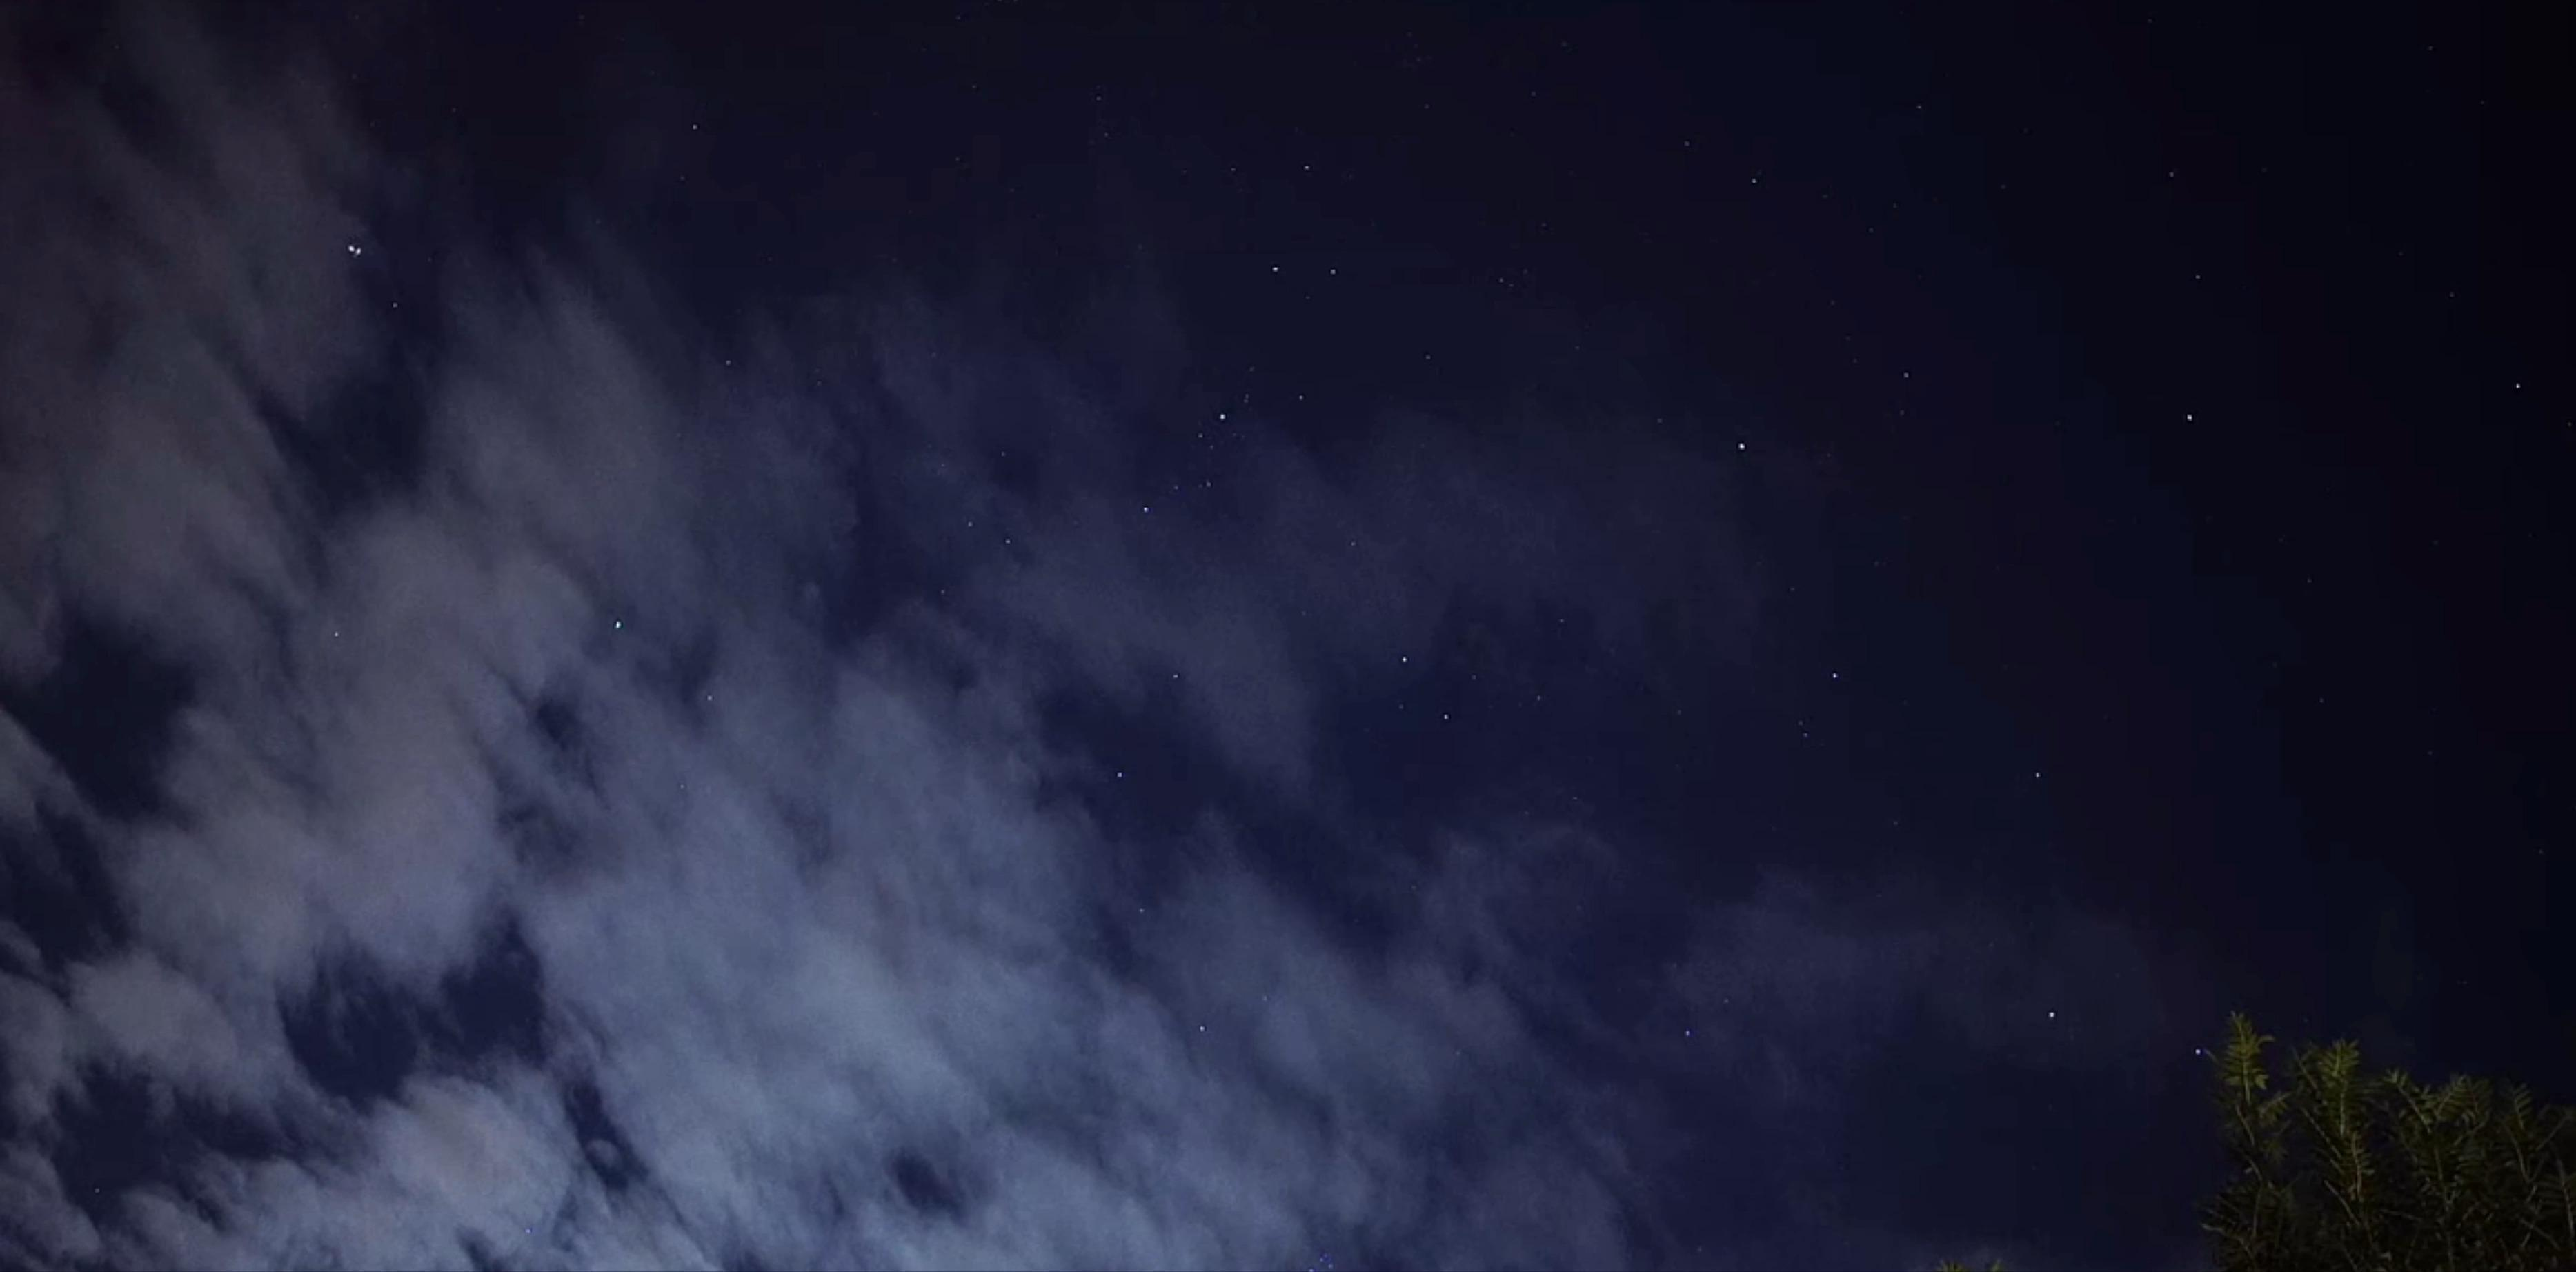Plane: (332, 230, 373, 268)
